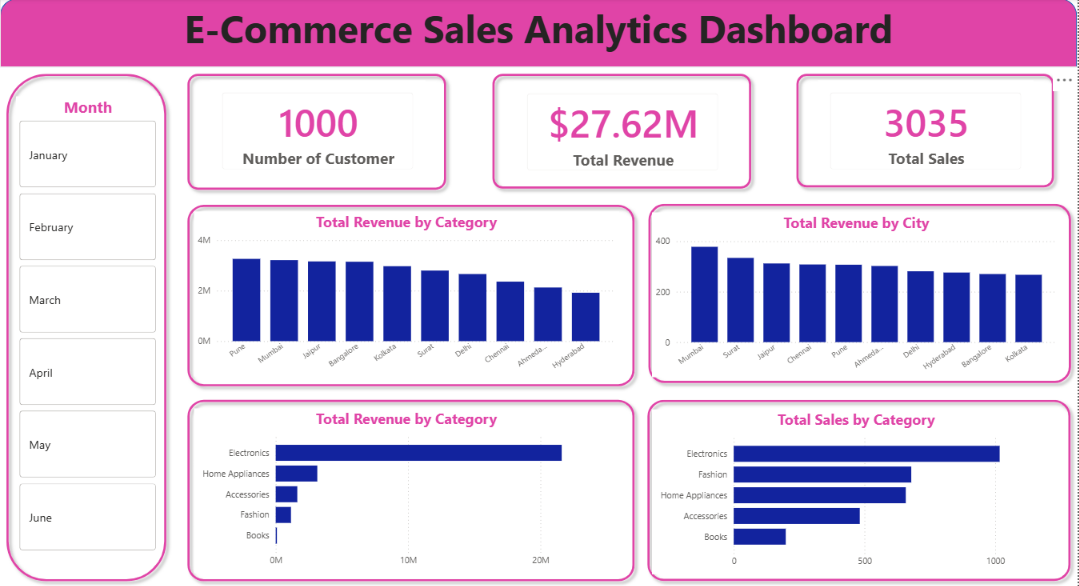

This screenshot's page, from the dashboard's own definition file:
{"tool":"powerbi","page":{"name":"Page 1","canvas":[1500,820],"ordinal":0},"visuals":[{"type":"shape","box":[0,0,1499.9,96.1],"z":0},{"type":"shape","box":[252.7,278.8,640.8,270.7],"z":1000},{"type":"shape","box":[893.5,277.2,606.5,267.4],"z":2000},{"type":"shape","box":[0,95.7,240.6,724.7],"z":3000},{"type":"shape","box":[252.7,96.2,378.3,179.3],"z":4000},{"type":"shape","box":[676.6,96.2,378.3,177.7],"z":5000},{"type":"shape","box":[252.7,549.5,640.8,270.7],"z":6000},{"type":"shape","box":[892.8,549.8,607.2,270.2],"z":7000},{"type":"shape","box":[1100.5,96.2,376.6,176.1],"z":8000},{"type":"textbox","box":[0,0,1500,96.2],"z":9000},{"type":"cardVisual","fields":{"Data":["E-Commerce Sales Analytics.number_of_customer"]},"box":[291.8,114.1,300,141.8],"z":10000},{"type":"cardVisual","fields":{"Data":["E-Commerce Sales Analytics.total_revenue"]},"box":[717.4,115.8,300,141.8],"z":11000},{"type":"cardVisual","fields":{"Data":["E-Commerce Sales Analytics.total_sales"]},"box":[1139.7,114.1,300,141.8],"z":12000},{"type":"clusteredBarChart","title":"Total Revenue by Category","fields":{"Category":["E-Commerce Sales Analytics.Category"],"Y":["E-Commerce Sales Analytics.total_revenue"]},"box":[270.7,570.7,591.8,229.9],"z":13000},{"type":"clusteredBarChart","title":"Total Sales by Category","fields":{"Category":["E-Commerce Sales Analytics.Category"],"Y":["E-Commerce Sales Analytics.total_sales"]},"box":[908.2,572.3,569,229.9],"z":14000},{"type":"clusteredColumnChart","title":"Total Revenue by Category","fields":{"Y":["E-Commerce Sales Analytics.total_revenue"],"Category":["E-Commerce Sales Analytics.City"]},"box":[270.7,296.7,591.8,229.9],"z":15000},{"type":"clusteredColumnChart","title":"Total Revenue by City","fields":{"Category":["E-Commerce Sales Analytics.City"],"Y":["E-Commerce Sales Analytics.total_sales"]},"box":[908.2,298.4,569,229.9],"z":16000},{"type":"advancedSlicerVisual","fields":{"Values":["E-Commerce Sales Analytics.Date.Variation.Date Hierarchy.Month"]},"box":[21.7,137,200.4,638.1],"z":17000}]}

Visuals, with their boxes in screenshot pixels (x1, y1, x2, y2), scaled from the page's 1500x820 canvas onto the 1079x586 screenshot:
shape: 0/0/1078/69
shape: 182/199/643/393
shape: 643/198/1078/389
shape: 0/68/173/585
shape: 182/69/454/197
shape: 487/69/759/196
shape: 182/393/643/585
shape: 642/393/1078/585
shape: 792/69/1063/195
textbox: 0/0/1078/69
cardVisual - E-Commerce Sales Analytics.number_of_customer: 210/82/426/183
cardVisual - E-Commerce Sales Analytics.total_revenue: 516/83/732/184
cardVisual - E-Commerce Sales Analytics.total_sales: 820/82/1036/183
"Total Revenue by Category" clusteredBarChart: 195/408/620/572
"Total Sales by Category" clusteredBarChart: 653/409/1063/573
"Total Revenue by Category" clusteredColumnChart: 195/212/620/376
"Total Revenue by City" clusteredColumnChart: 653/213/1063/378
advancedSlicerVisual - E-Commerce Sales Analytics.Date.Variation.Date Hierarchy.Month: 16/98/160/554
